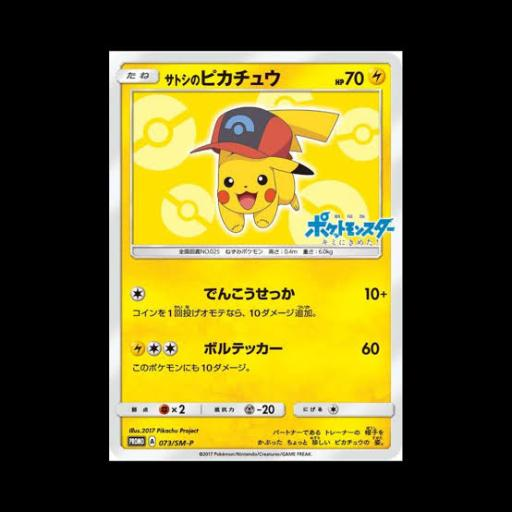Pikachu: (190, 107, 340, 232)
